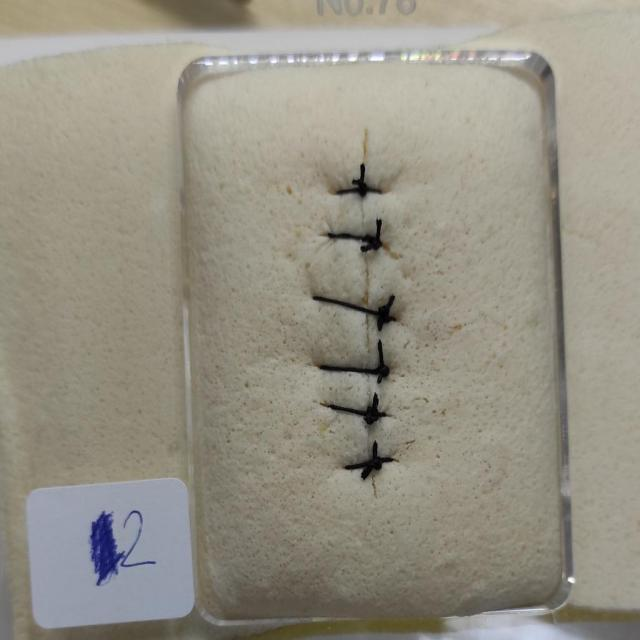knot: (365, 235, 382, 250), (379, 305, 391, 323), (357, 180, 367, 197), (367, 408, 379, 421), (372, 457, 382, 471), (380, 366, 389, 377)
leftover: (361, 460, 377, 479), (382, 294, 394, 317), (378, 338, 385, 373), (375, 218, 381, 245), (360, 242, 378, 251), (351, 179, 363, 191), (378, 314, 385, 332), (365, 412, 375, 424), (377, 370, 385, 384), (373, 439, 377, 463), (360, 162, 363, 191), (373, 394, 377, 415)
stitch: (312, 296, 396, 321), (326, 233, 383, 247), (327, 404, 387, 417), (344, 458, 394, 470), (319, 366, 390, 373), (336, 187, 382, 194)
wound: (360, 129, 378, 501)
